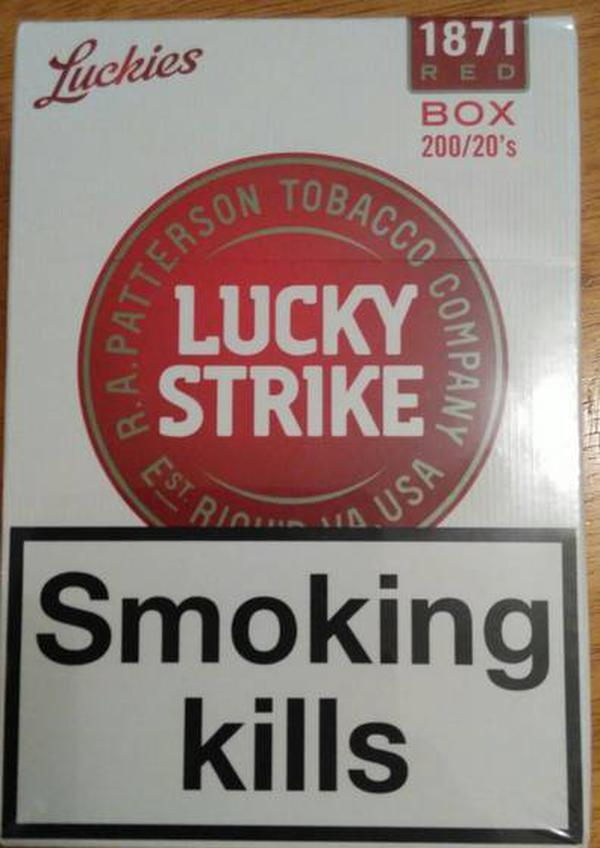lucky_strike_red: (17, 23, 586, 842)
